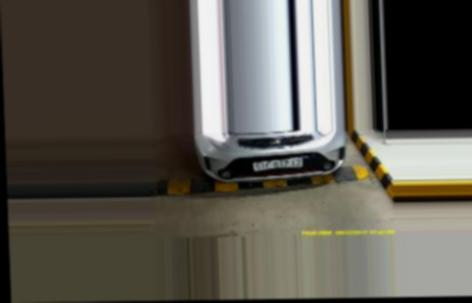License_Plate: (252, 157, 303, 171)
